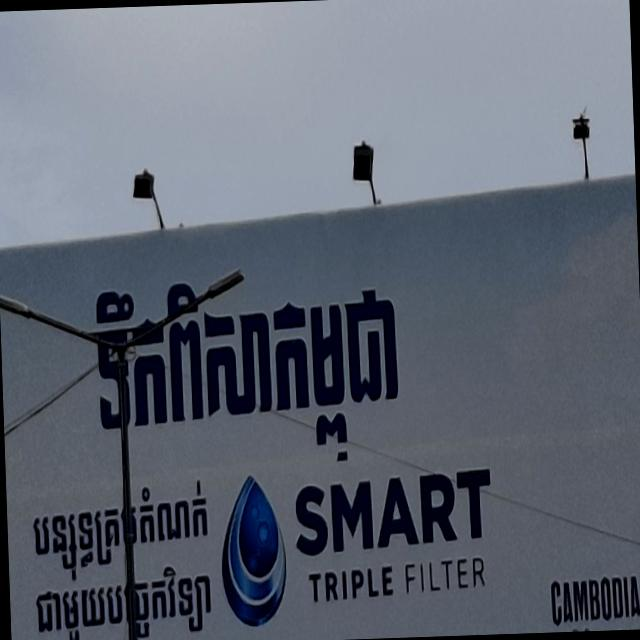Yolov11_80vkh: (68, 223, 453, 490), (22, 473, 223, 640)
